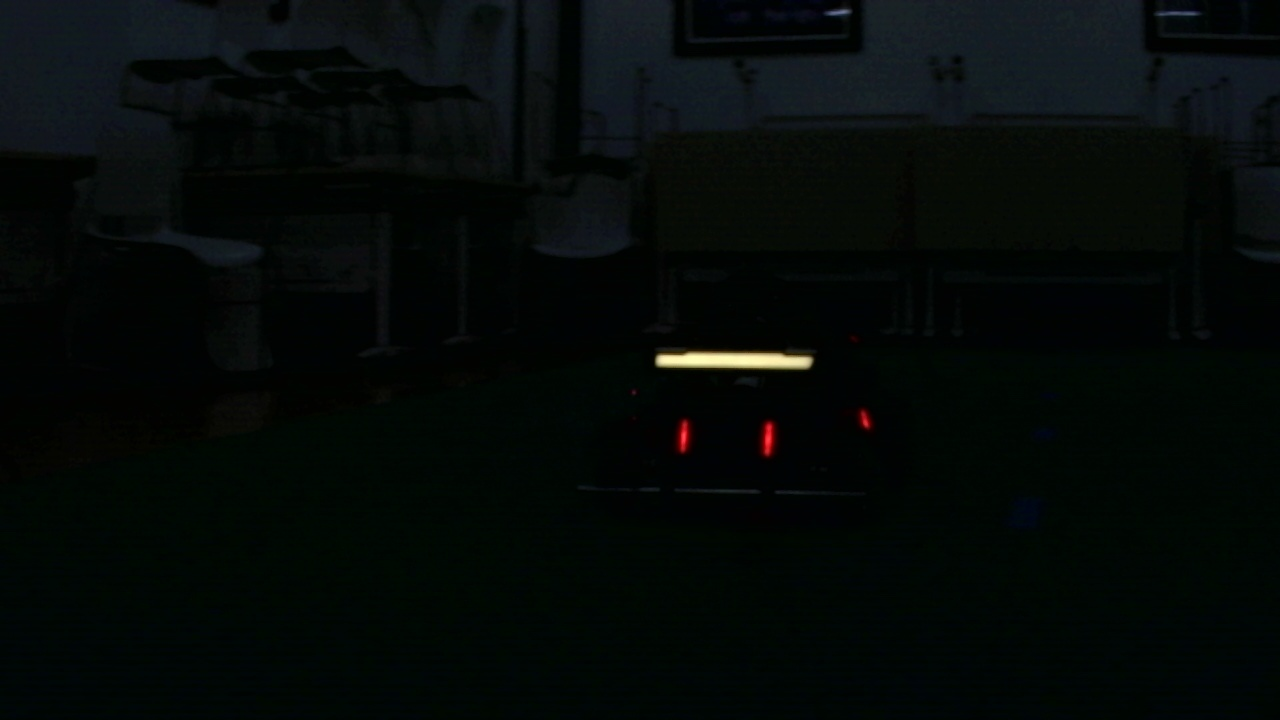lamp: (761, 411, 778, 461), (677, 416, 693, 455), (863, 401, 873, 432)
pair1: (679, 420, 776, 457)
